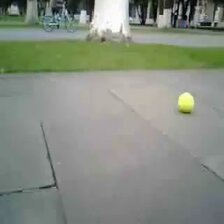tennis: (178, 92, 195, 114)
